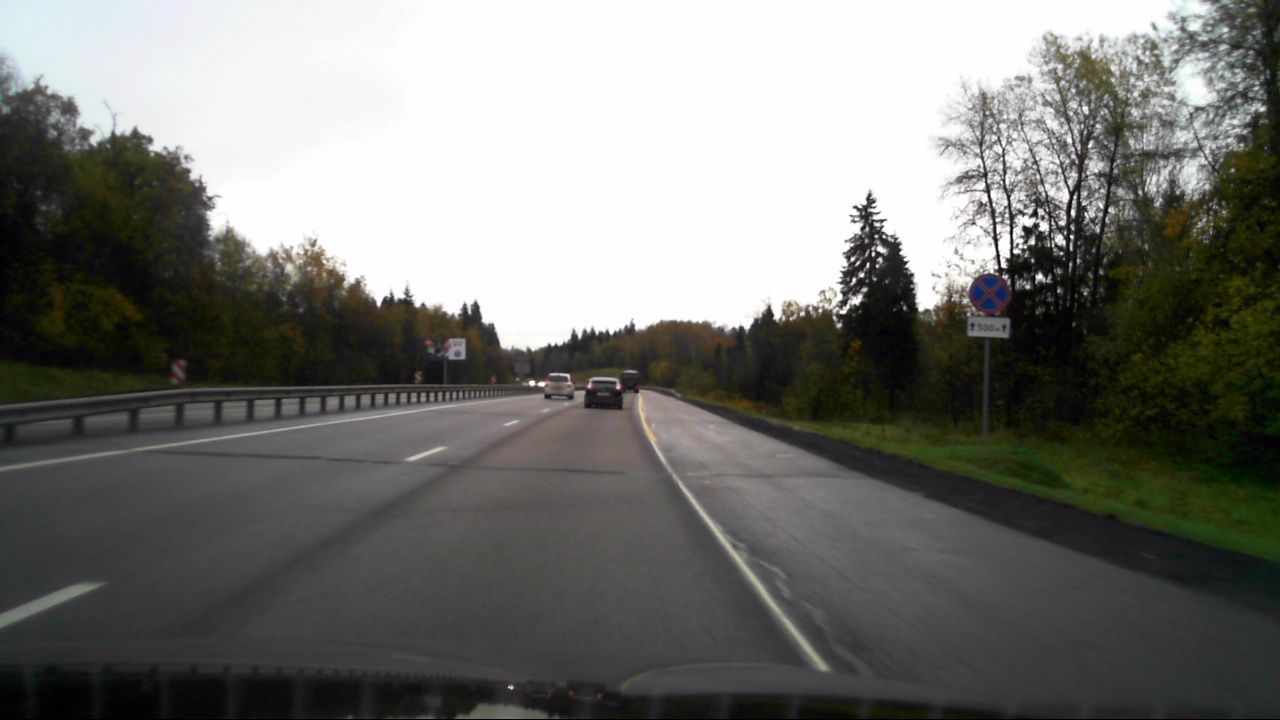No Parking: (968, 274, 1011, 313)
